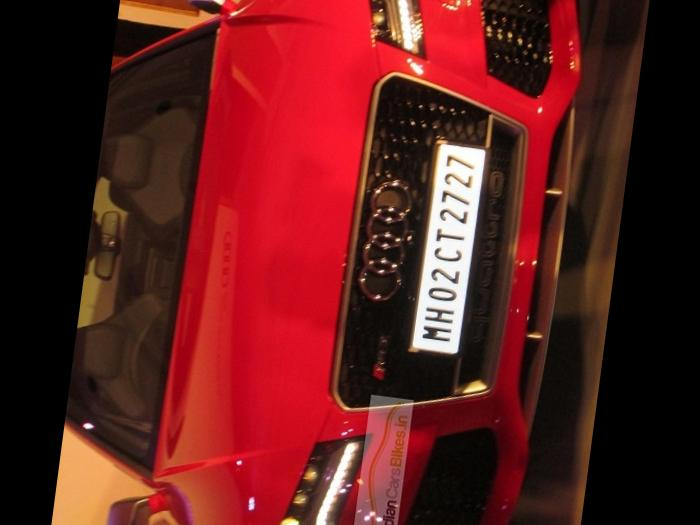plate: (398, 122, 517, 363)
